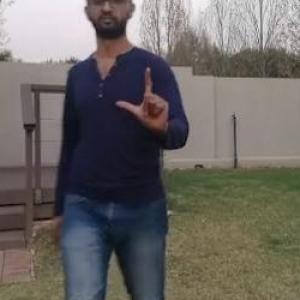land_hand: (112, 61, 176, 138)
